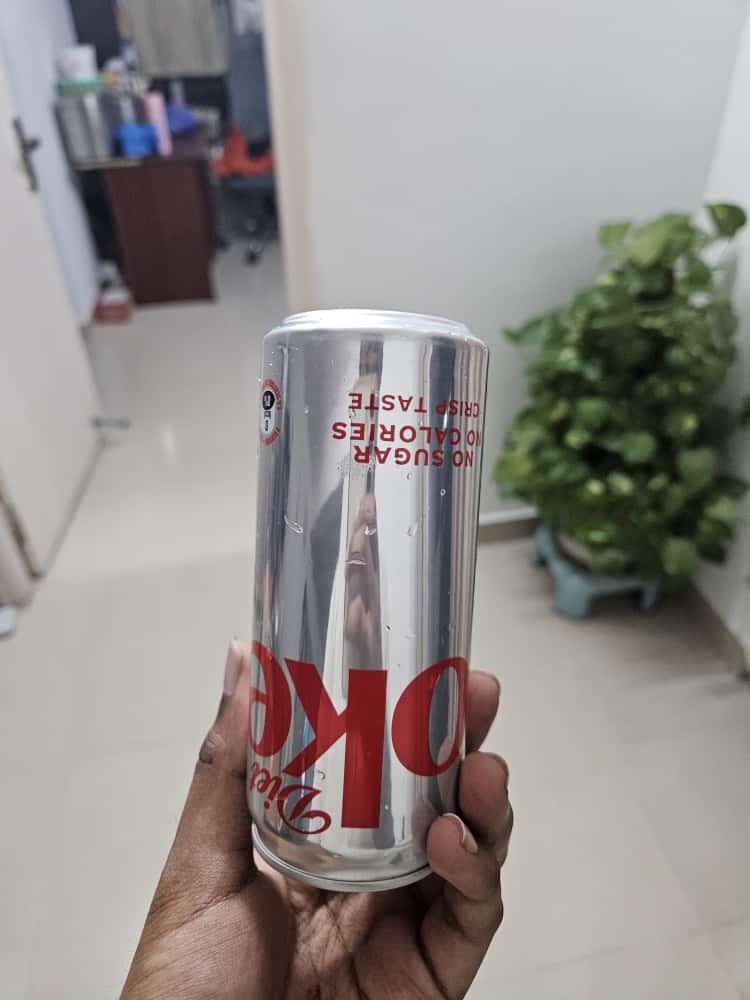dry: (246, 300, 518, 911)
